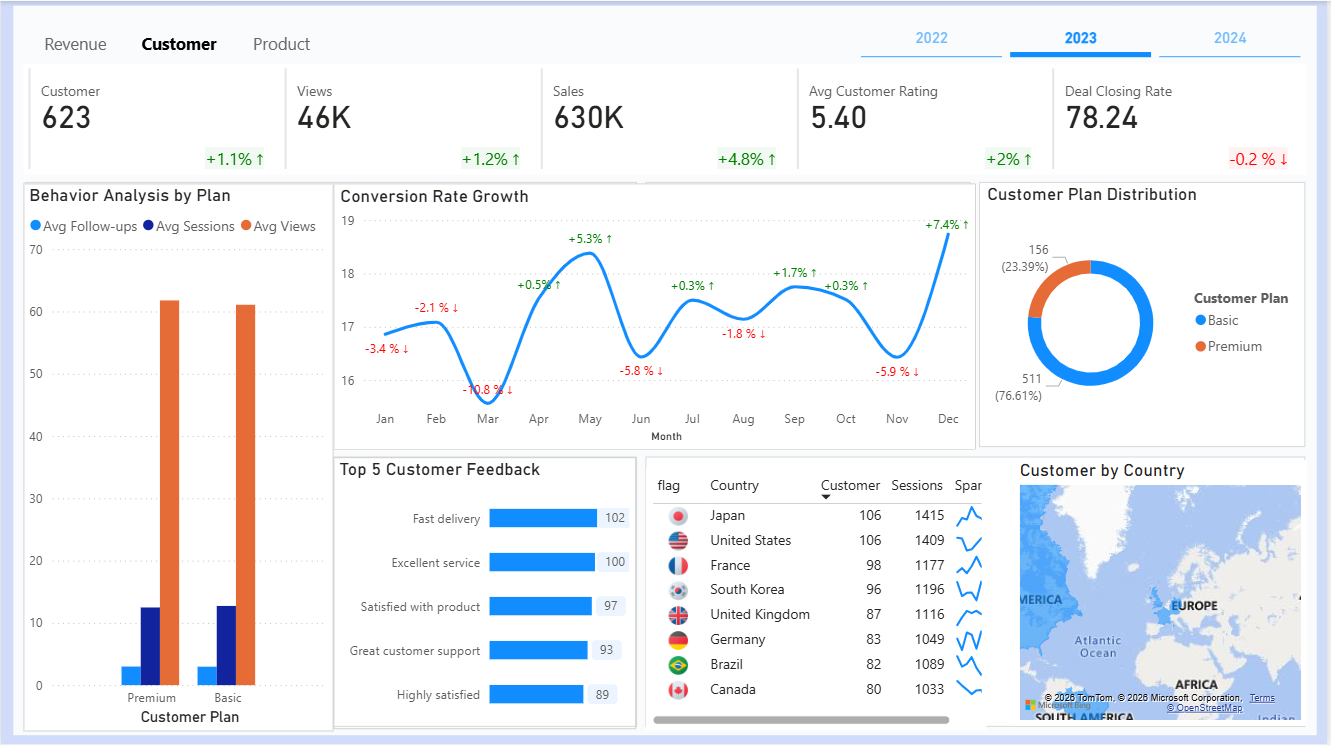

This screenshot's page, from the dashboard's own definition file:
{"tool":"powerbi","page":{"name":"Customer","canvas":[1280,720],"ordinal":1},"visuals":[{"type":"cardVisual","fields":{"Data":["All Measure.Customer","All Measure.Views","All Measure.Sales","All Measure.Avg Customer Rating","All Measure.Deal Closing Rate"]},"box":[21.2,60,1238.8,107.5],"z":0},{"type":"lineChart","title":"Conversion Rate Growth","fields":{"Y":["All Measure.Avg Conversion Rate"],"Category":["Calendar.Month"]},"box":[321.2,176.5,620,257.1],"z":1000},{"type":"donutChart","title":"Customer Plan Distribution","fields":{"Y":["All Measure.Customer"],"Series":["fact_sales_data.Customer Plan"]},"box":[946.5,176.5,309.4,250.6],"z":2000},{"type":"tableEx","fields":{"Values":["countryData.flag","countryData.Country","All Measure.Customer","All Measure.Sessions","SparklineData(All Measure.Revenue_[Calendar.Monthnum])"]},"box":[622.5,451.2,328.8,252.5],"z":3000},{"type":"filledMap","fields":{"Category":["countryData.Country"]},"box":[978.7,443.3,281.3,256],"z":4000},{"type":"actionButton","title":"Revenue","box":[21.7,20,100,40],"z":5000},{"type":"actionButton","title":"Revenue","box":[121.2,20,100,40],"z":6000},{"type":"actionButton","title":"Revenue","box":[221.2,20,100,40],"z":7000},{"type":"clusteredColumnChart","title":"Behavior Analysis by Plan","fields":{"Category":["fact_sales_data.Customer Plan"],"Y":["All Measure.Avg Follow-ups","All Measure.Avg Sessions","All Measure.Avg Views"]},"box":[21.8,176.4,299.1,529.1],"z":8000},{"type":"clusteredBarChart","title":"Top 5 Customer Feedback","fields":{"Category":["fact_sales_data.Customer Feedback"],"Y":["All Measure.Customer"]},"box":[320.9,440.9,291.8,262.7],"z":9000},{"type":"advancedSlicerVisual","fields":{"Values":["Calendar.Year"]},"box":[825,8.3,435,51.7],"z":10000}]}

Visuals, with their boxes in screenshot pixels (x1, y1, x2, y2), scaled from the page's 1280x720 canvas onto the 1331x746 screenshot:
cardVisual - All Measure.Customer x All Measure.Views: region(22, 62, 1310, 174)
"Conversion Rate Growth" lineChart: region(334, 183, 979, 449)
"Customer Plan Distribution" donutChart: region(984, 183, 1306, 443)
tableEx - countryData.flag x countryData.Country: region(647, 467, 989, 729)
filledMap - countryData.Country: region(1018, 459, 1310, 725)
"Revenue" actionButton: region(23, 21, 127, 62)
"Revenue" actionButton: region(126, 21, 230, 62)
"Revenue" actionButton: region(230, 21, 334, 62)
"Behavior Analysis by Plan" clusteredColumnChart: region(23, 183, 334, 731)
"Top 5 Customer Feedback" clusteredBarChart: region(334, 457, 637, 729)
advancedSlicerVisual - Calendar.Year: region(858, 9, 1310, 62)
